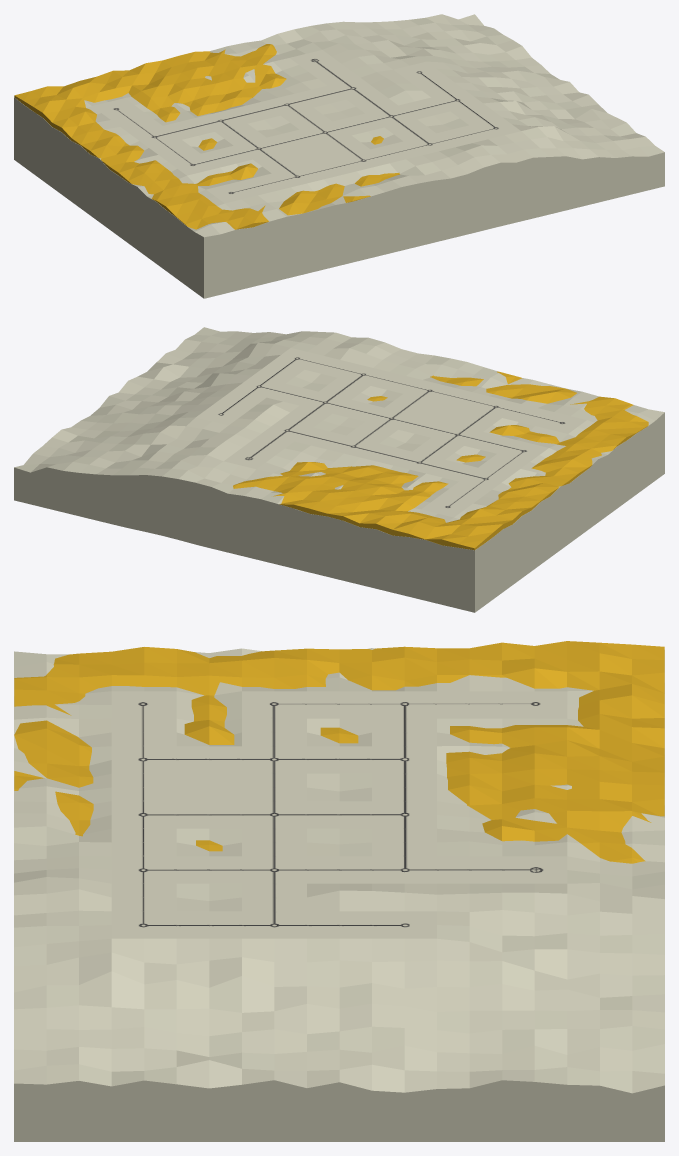
Rendered from Nivell1.FBX.
3 renders of one model, top to bottom at view 1: azimuth 30°, elevation 25°; view 2: azimuth 150°, elevation 25°; view 3: azimuth 270°, elevation 25°, orthographic. The views are drawn at different scales.
Visible parts, largest first — view 1: Plane003; view 2: Plane003; view 3: Plane003.
Part boxes in pixels (<box>): Plane003: <box>14,14,664,298</box>; Plane003: <box>14,327,664,612</box>; Plane003: <box>14,641,664,1141</box>.
Bounding box in the file's own units: 35.03 × 4.98 × 25.02.
Materials: 1 (1 with a texture image).
